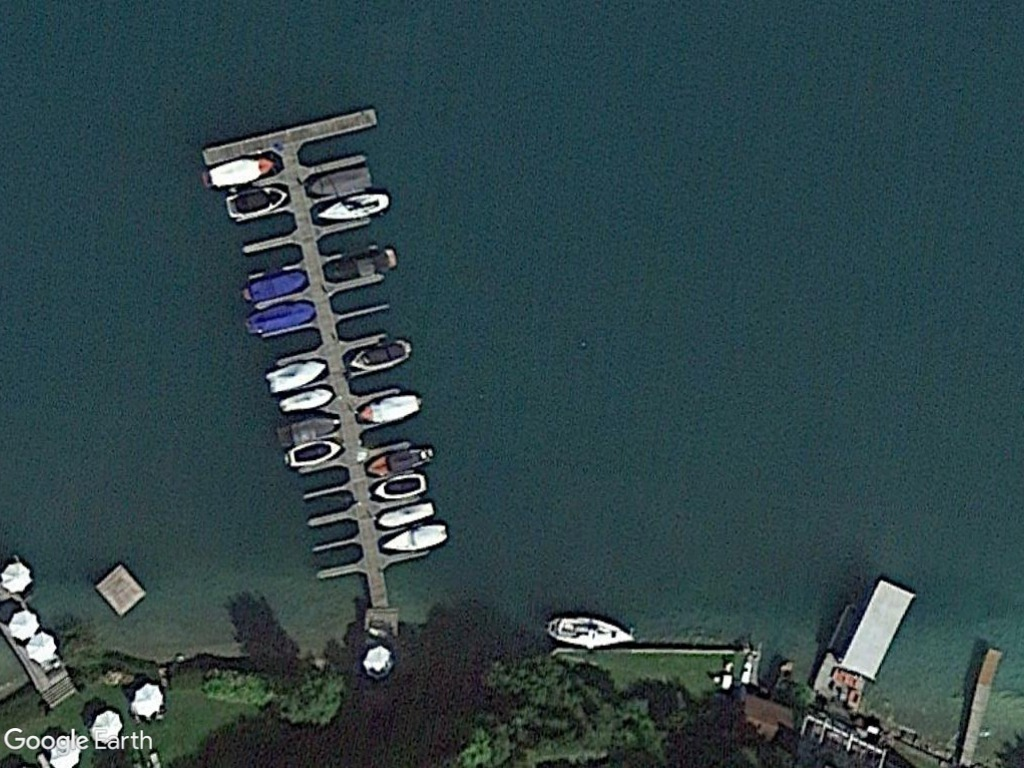boat: (543, 612, 640, 651), (311, 188, 392, 227), (200, 152, 276, 193), (221, 180, 288, 224), (363, 440, 436, 480), (346, 336, 415, 375), (263, 356, 328, 397), (380, 520, 452, 555), (240, 269, 307, 306), (355, 389, 422, 426), (275, 382, 334, 417), (281, 437, 341, 469), (371, 471, 428, 504)
